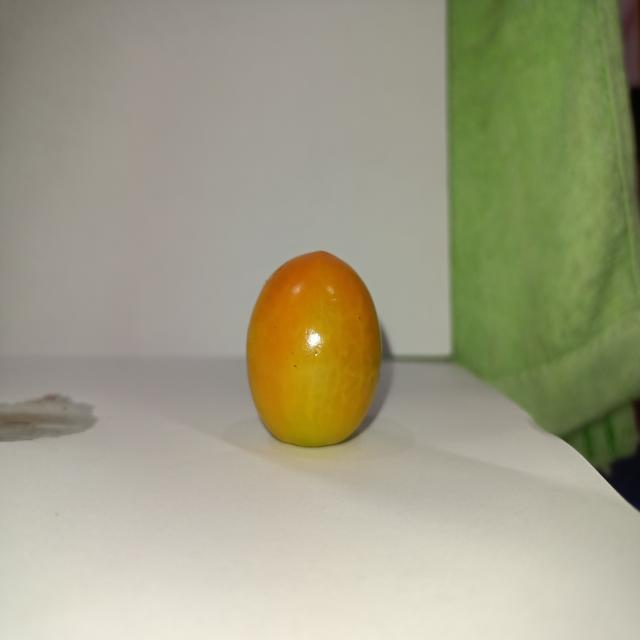Red: (244, 248, 383, 447)
